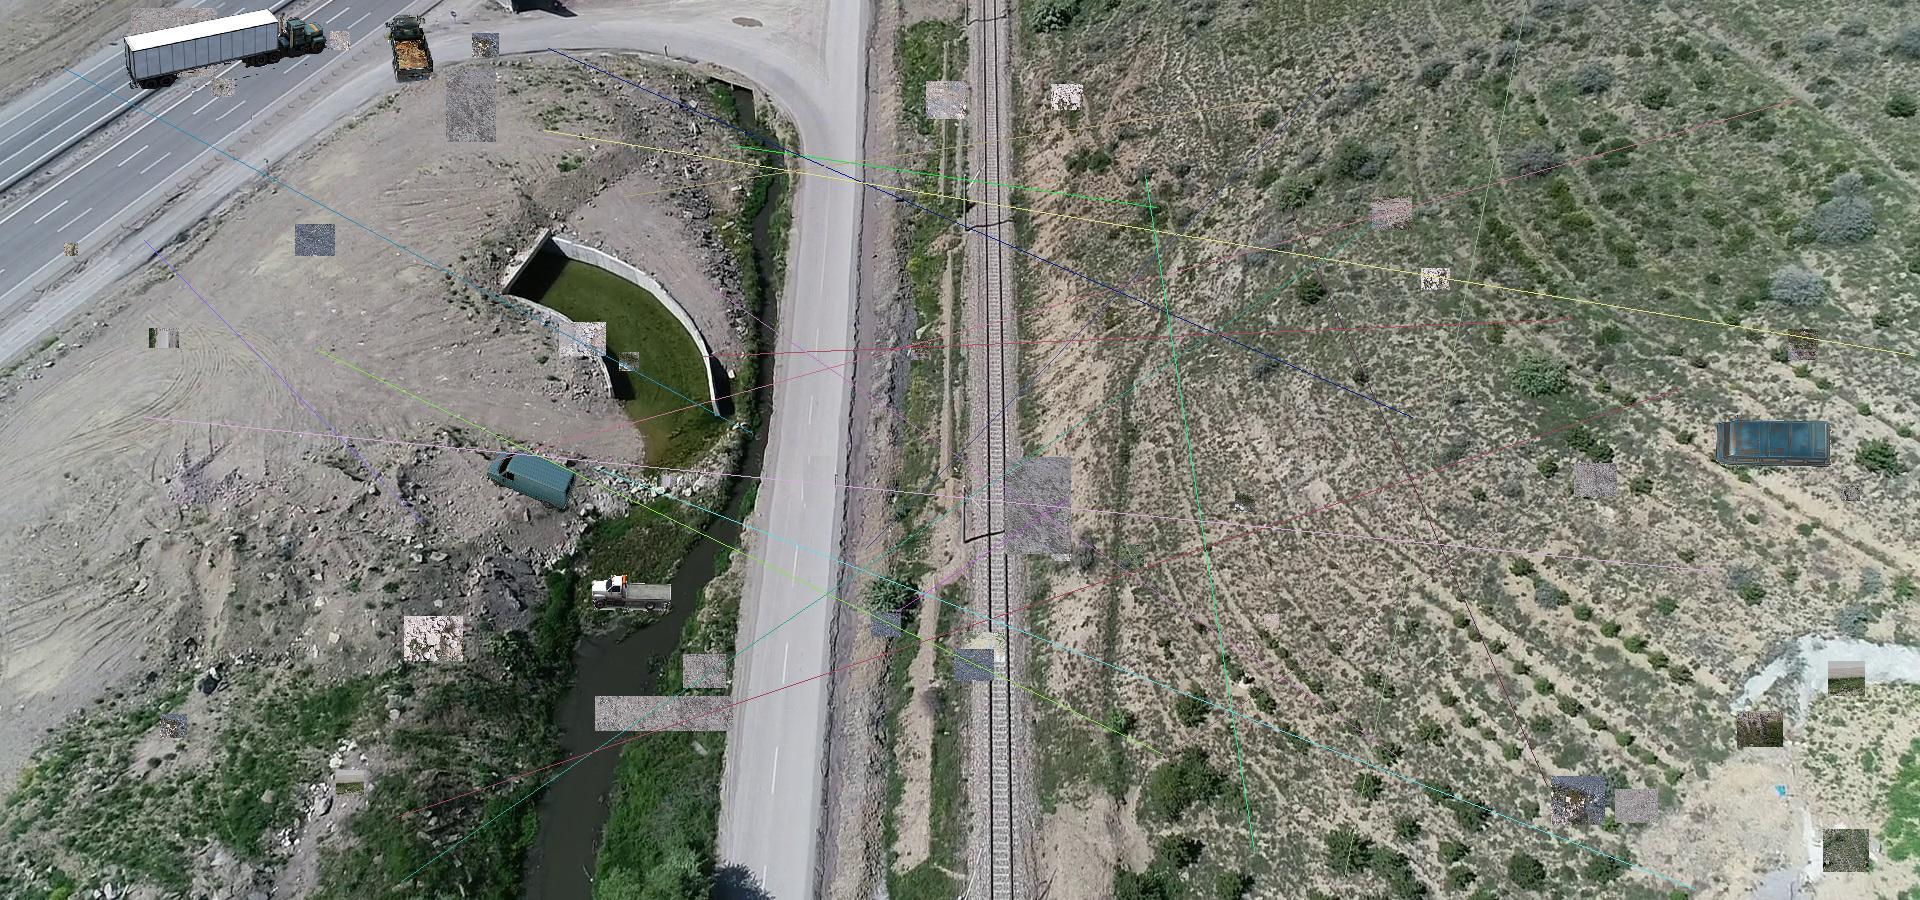arac: (120, 6, 331, 89), (1712, 415, 1834, 470), (487, 449, 577, 509), (383, 13, 435, 83), (591, 576, 673, 612)
